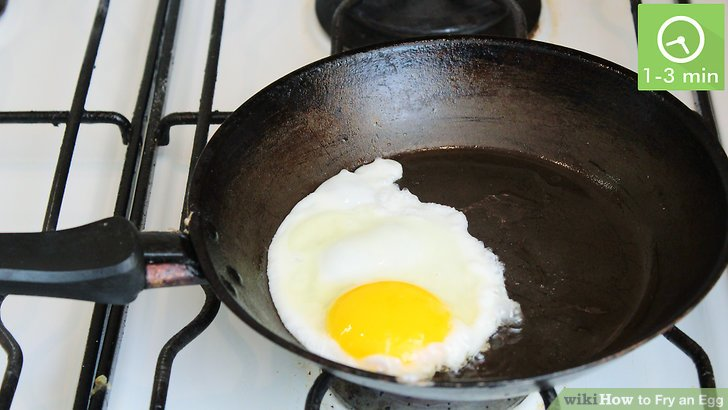fried egg: (276, 197, 475, 368)
